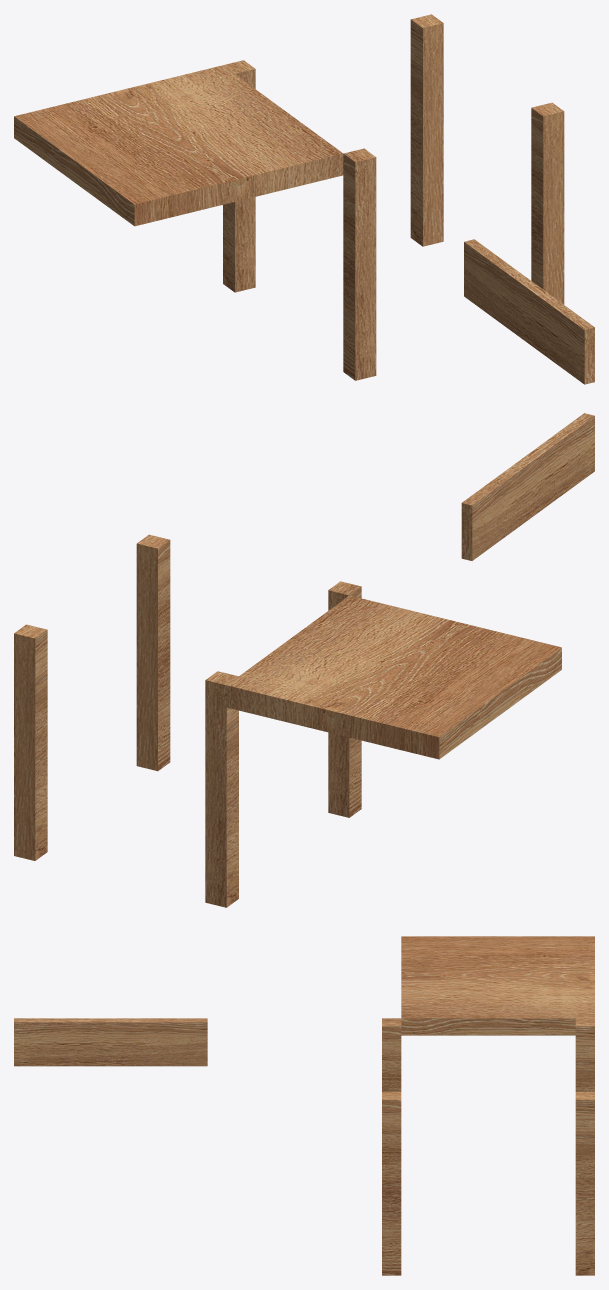
File: 2360_gpt-only.glb
The picture shows the model from 3 angles, top to bottom: view 1: azimuth 30°, elevation 25°; view 2: azimuth 150°, elevation 25°; view 3: azimuth 270°, elevation 25°; orthographic projection. The views are drawn at different scales.
Visible parts, largest first — view 1: ParentEmpty; view 2: ParentEmpty; view 3: ParentEmpty.
Boxes of the visible parts, x1,y1,x2,y2 form: ParentEmpty: (14,14,594,384); ParentEmpty: (14,413,594,907); ParentEmpty: (14,936,594,1275).
Size of the model in its own units: 0.6667 by 0.3333 by 1.
1 material, 1 textured.
